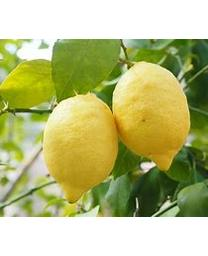lemon: (112, 62, 189, 171), (43, 94, 119, 204)
